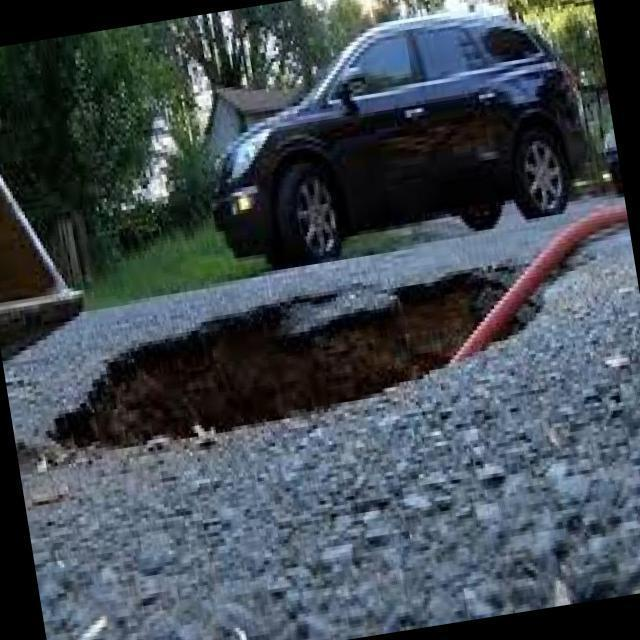Pothole: (22, 259, 520, 454)
